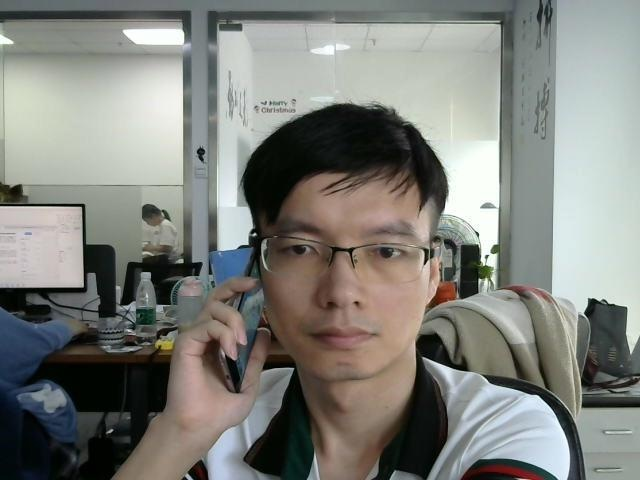hand: (172, 280, 274, 422)
